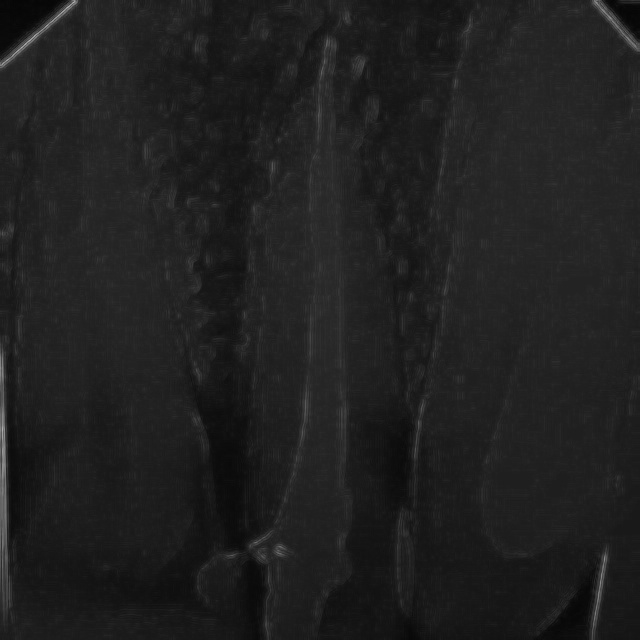Class 0- No endodontic treatment: (191, 17, 457, 637)
